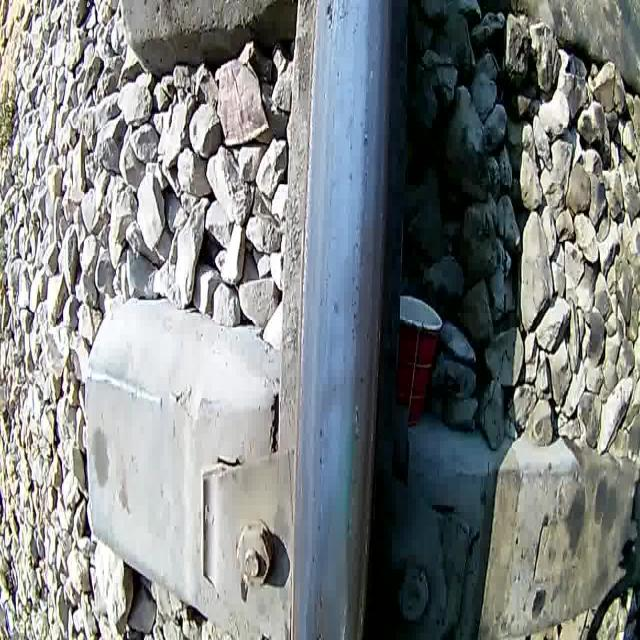Spallings: (321, 0, 352, 38)
Squats: (303, 495, 353, 640)
